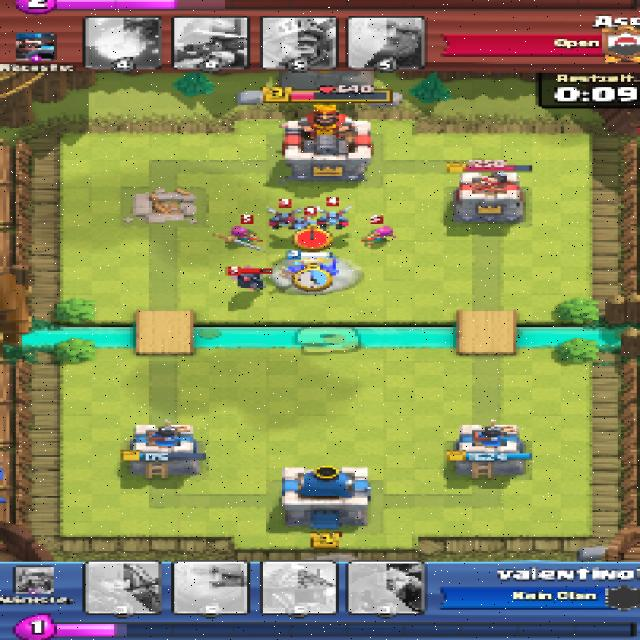Enemy-Archer: (362, 225, 394, 246), (226, 226, 260, 244)
Enemy-MiniPEKKA: (226, 266, 266, 293)
Enemy-Minion: (314, 207, 348, 229), (286, 216, 318, 231), (269, 212, 300, 227)
Player-MiniPEKKA: (278, 256, 339, 285)
